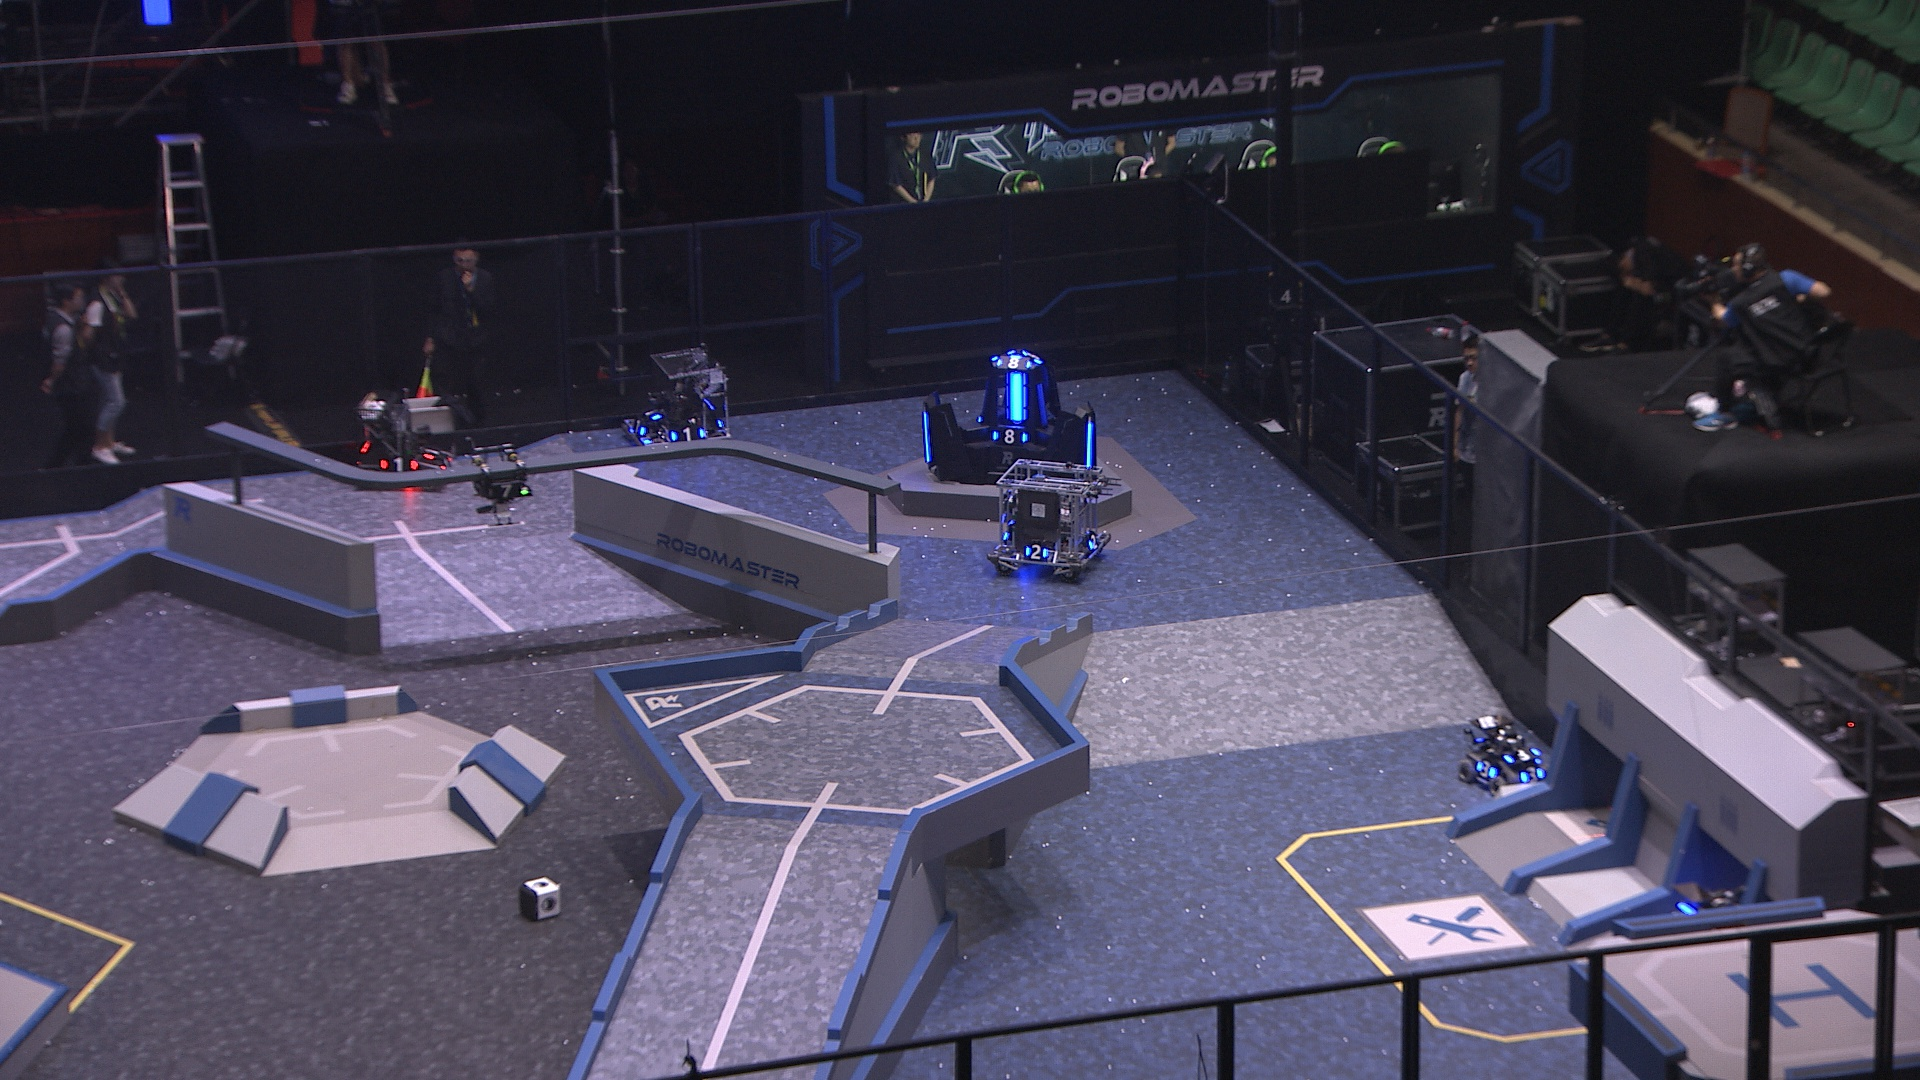armor: (1002, 368, 1031, 423), (1079, 417, 1097, 472), (992, 425, 1031, 447), (373, 455, 422, 472), (487, 481, 527, 501), (920, 409, 934, 469), (669, 425, 708, 444), (1035, 381, 1051, 427), (1503, 745, 1542, 764), (1518, 760, 1545, 785), (1476, 756, 1501, 782), (994, 353, 1031, 371), (1022, 542, 1051, 560), (641, 404, 665, 425), (436, 452, 456, 473), (418, 443, 440, 462), (629, 415, 647, 436), (1021, 349, 1043, 367), (1084, 533, 1102, 551)
base: (915, 344, 1101, 487)
car: (986, 458, 1116, 582), (621, 344, 733, 454), (353, 394, 462, 480), (1673, 878, 1783, 955), (1456, 711, 1552, 796)
watcher: (463, 433, 534, 531)
